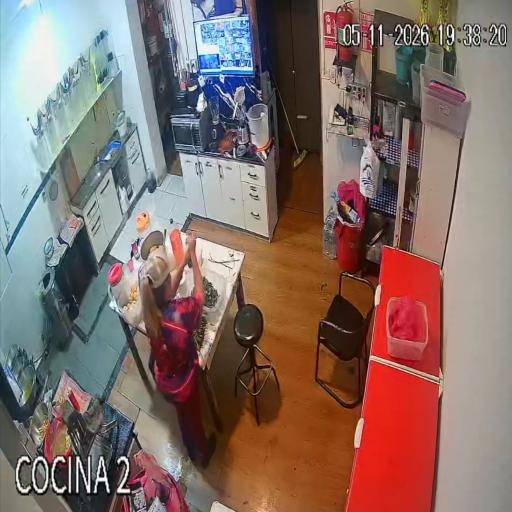Balde: (247, 103, 270, 150)
Envase Ketchup: (68, 388, 80, 410)
Jarra1: (108, 263, 129, 303)
Jarra2: (135, 211, 150, 237)
Licuadora: (209, 95, 223, 140)
Licuadora2: (237, 103, 249, 146)
Microondas: (170, 110, 212, 151)
Persona2: (139, 235, 216, 466)
Taper: (114, 271, 142, 325)
Taper2: (203, 271, 225, 323)
Taper4: (386, 297, 429, 360)
olla1: (140, 230, 165, 260)
